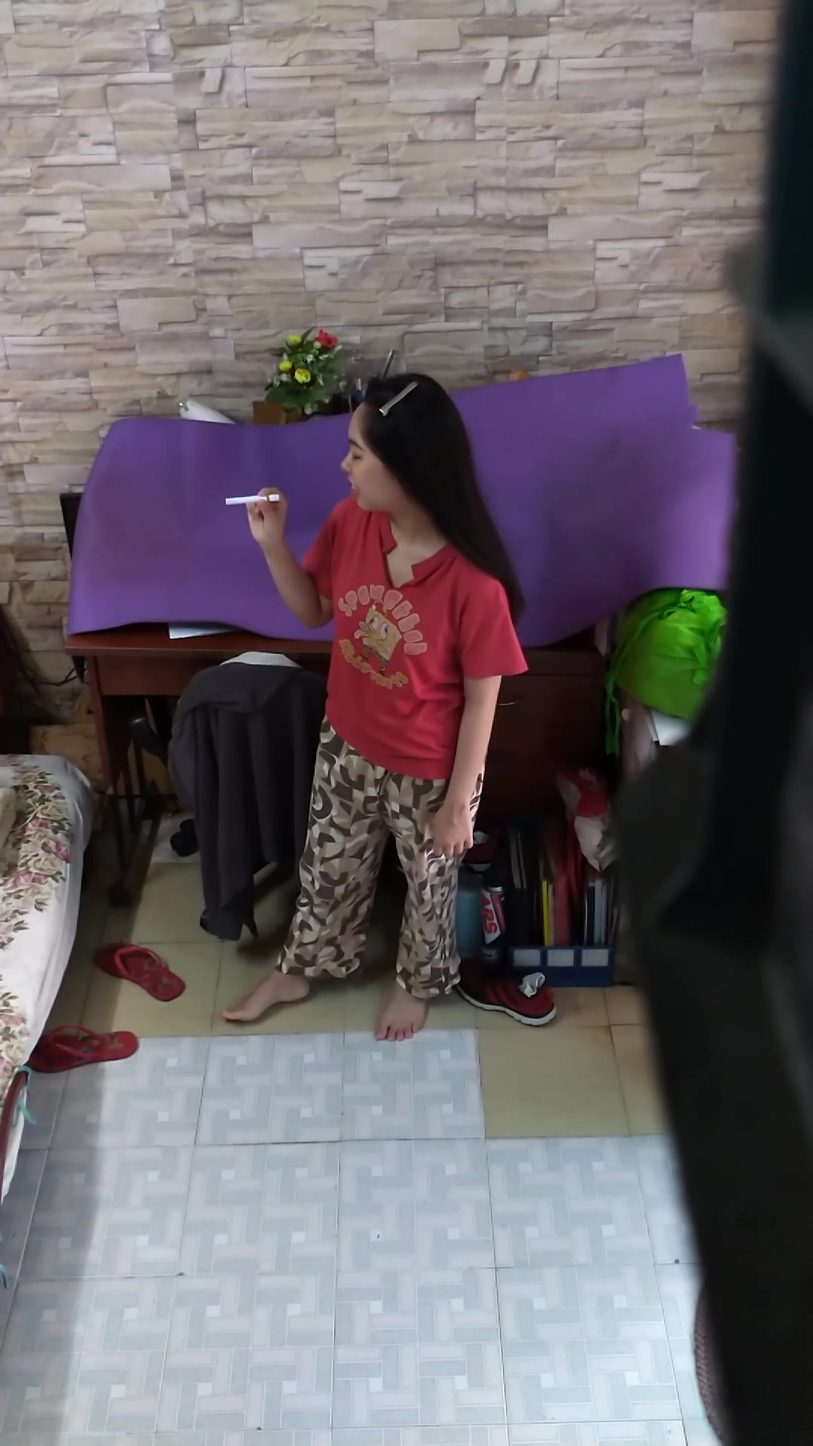cigarette: (221, 490, 284, 514)
person: (221, 370, 528, 1045)
